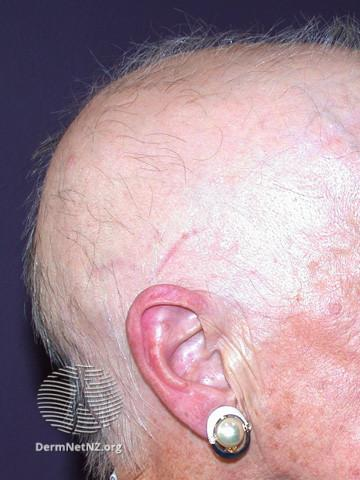Alopecia Areata: (63, 58, 345, 285)
